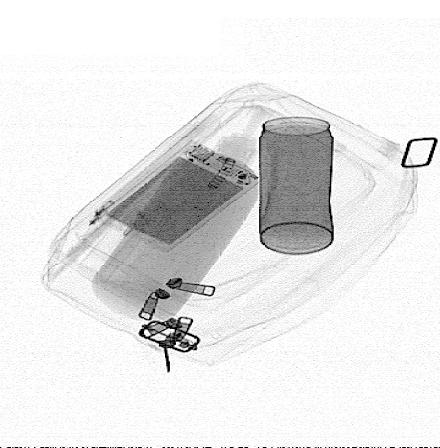Powerbank: (96, 140, 258, 255)
